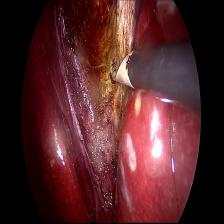Hook: (108, 51, 136, 92)
